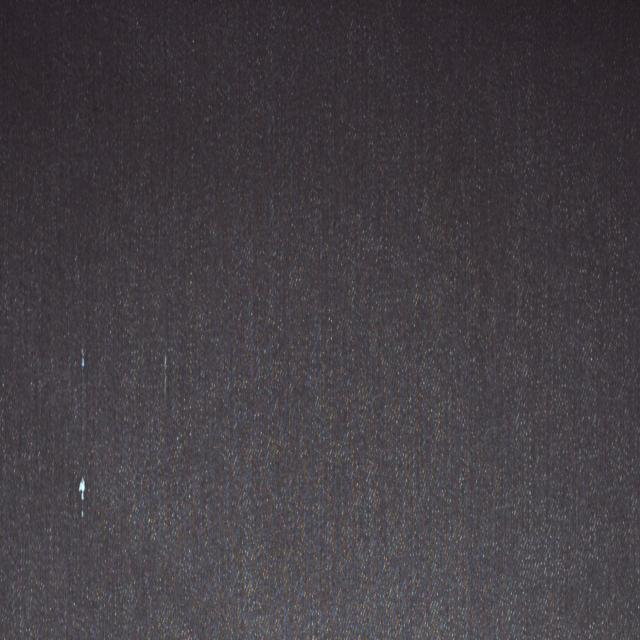Knot: (78, 478, 86, 518)
